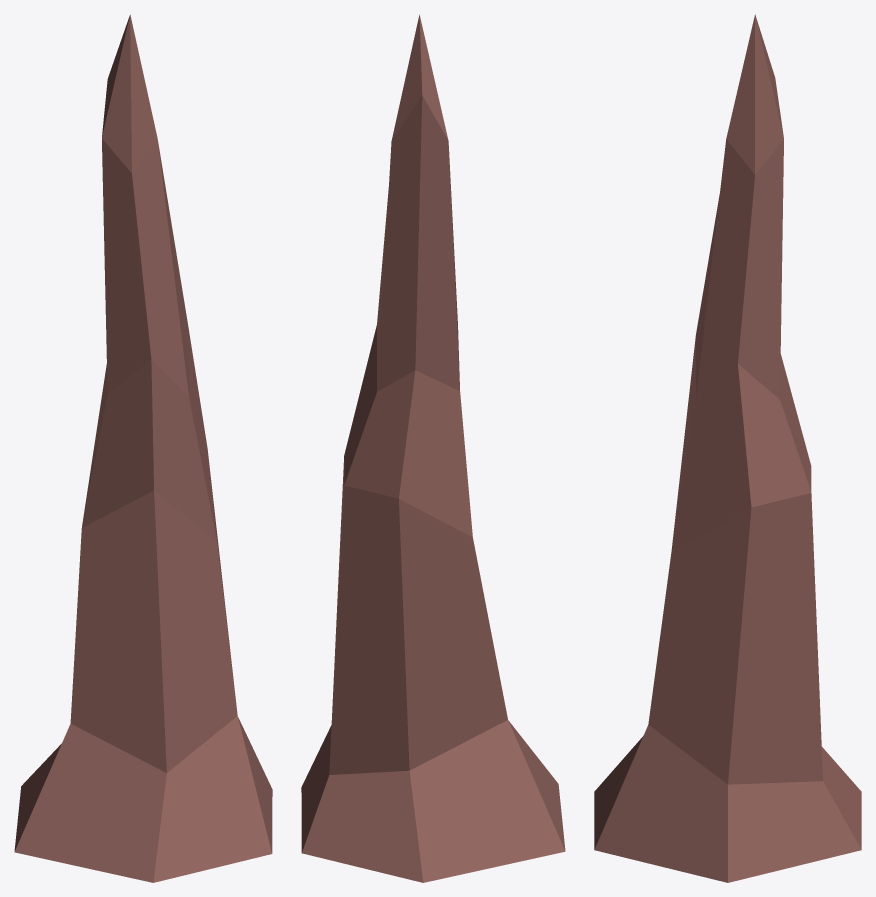
The model's file is Stalagmite-B04.fbx.
The picture shows the model from 3 angles, left to right: view 1: azimuth 30°, elevation 25°; view 2: azimuth 150°, elevation 25°; view 3: azimuth 270°, elevation 25°; orthographic projection. The views are drawn at different scales.
Parts seen in each view (by area): view 1: Stalagmite-B04; view 2: Stalagmite-B04; view 3: Stalagmite-B04.
Boxes of the visible parts, bbox=[...] form: Stalagmite-B04: bbox=[14, 14, 272, 882]; Stalagmite-B04: bbox=[301, 14, 565, 882]; Stalagmite-B04: bbox=[594, 14, 861, 882].
Size of the model in its own units: 90.64 by 267 by 80.42.
